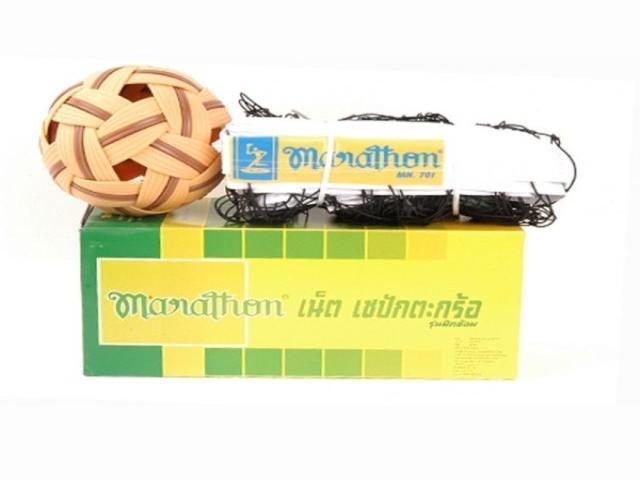round ball: (40, 66, 231, 215)
